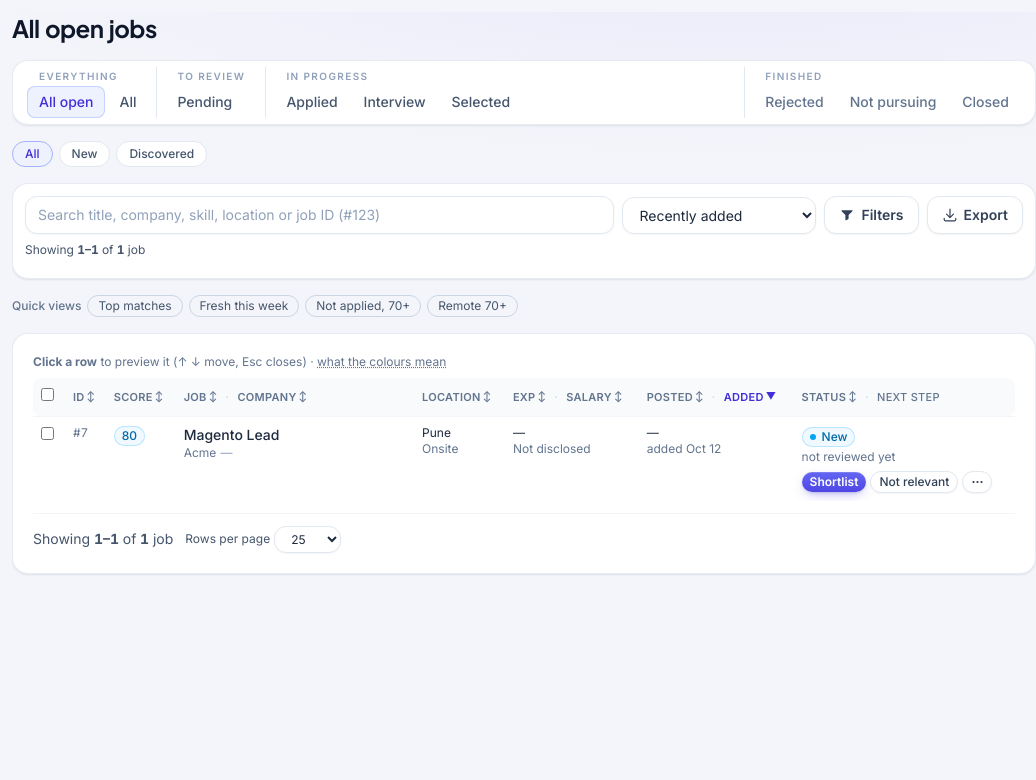
Test: status changes in the list › come back if the server refuses
Click the button with aria-label "Shortlist Magento Lead" at (834, 482), box [802,472,866,492]
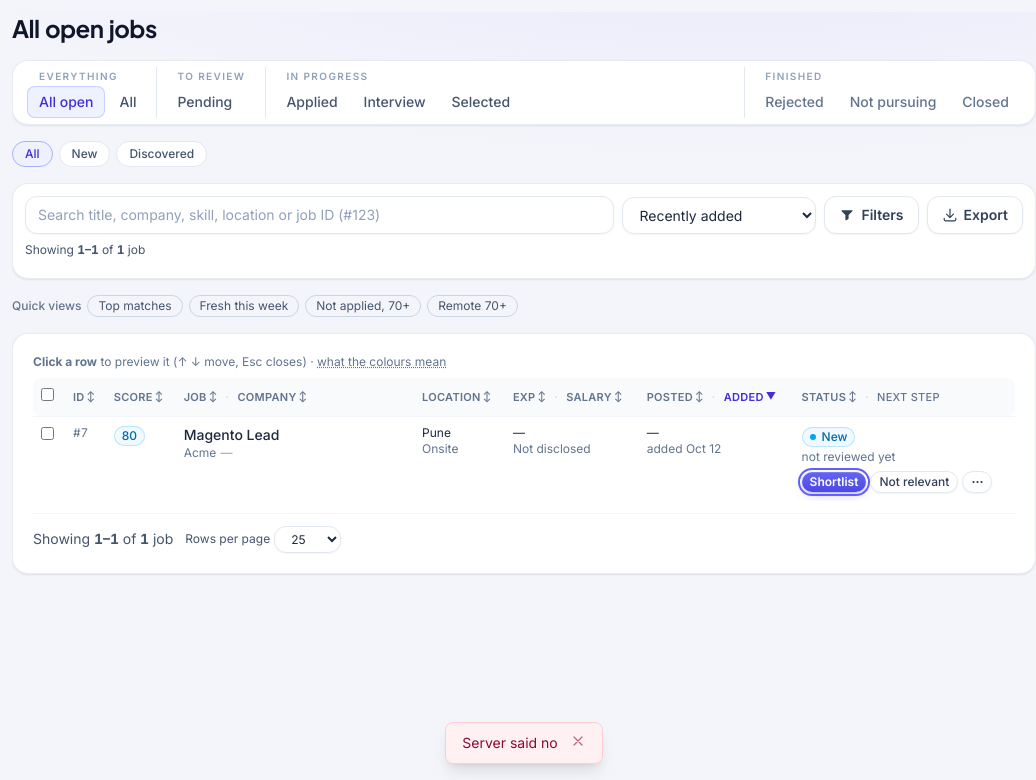
Expected: the link "Magento Lead" is shown, [184,426,280,442]
Expected: the text "Server said no" is shown, [462,733,558,753]
